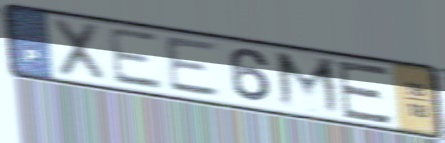6: (227, 46, 274, 105)
E: (105, 25, 168, 92), (334, 60, 396, 127), (163, 35, 226, 100)
M: (273, 48, 346, 120)
X: (48, 15, 109, 85)
